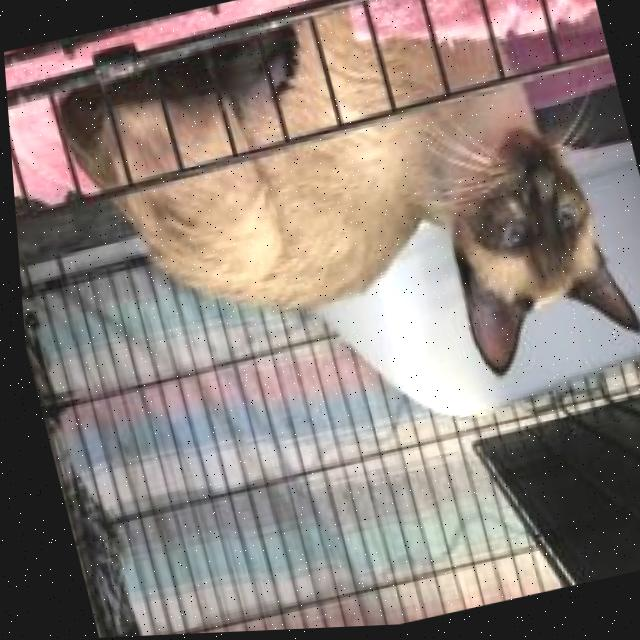Siamese: (34, 0, 640, 463)
